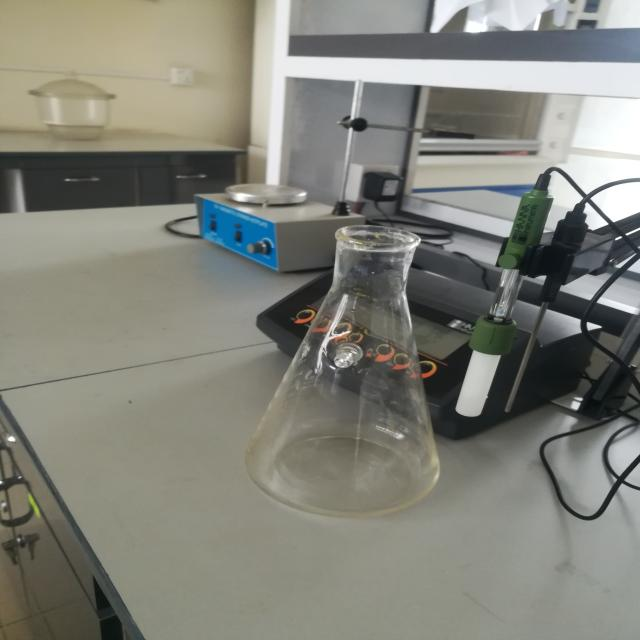Conical_Flask: (207, 186, 483, 545)
